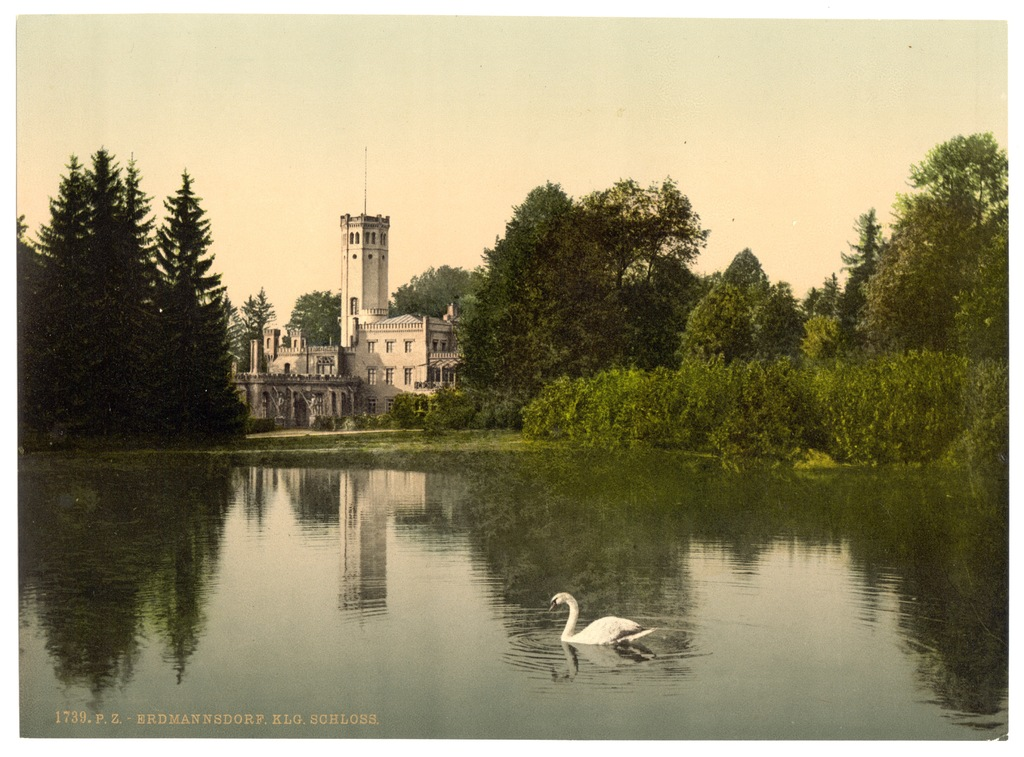Tree: (391, 173, 704, 434), (11, 143, 263, 448), (803, 127, 1023, 362), (676, 247, 818, 363)
